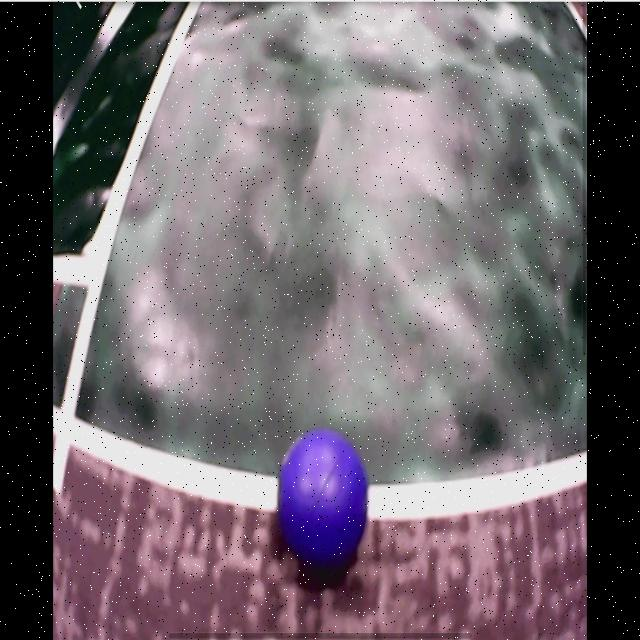ball: (278, 431, 368, 573)
